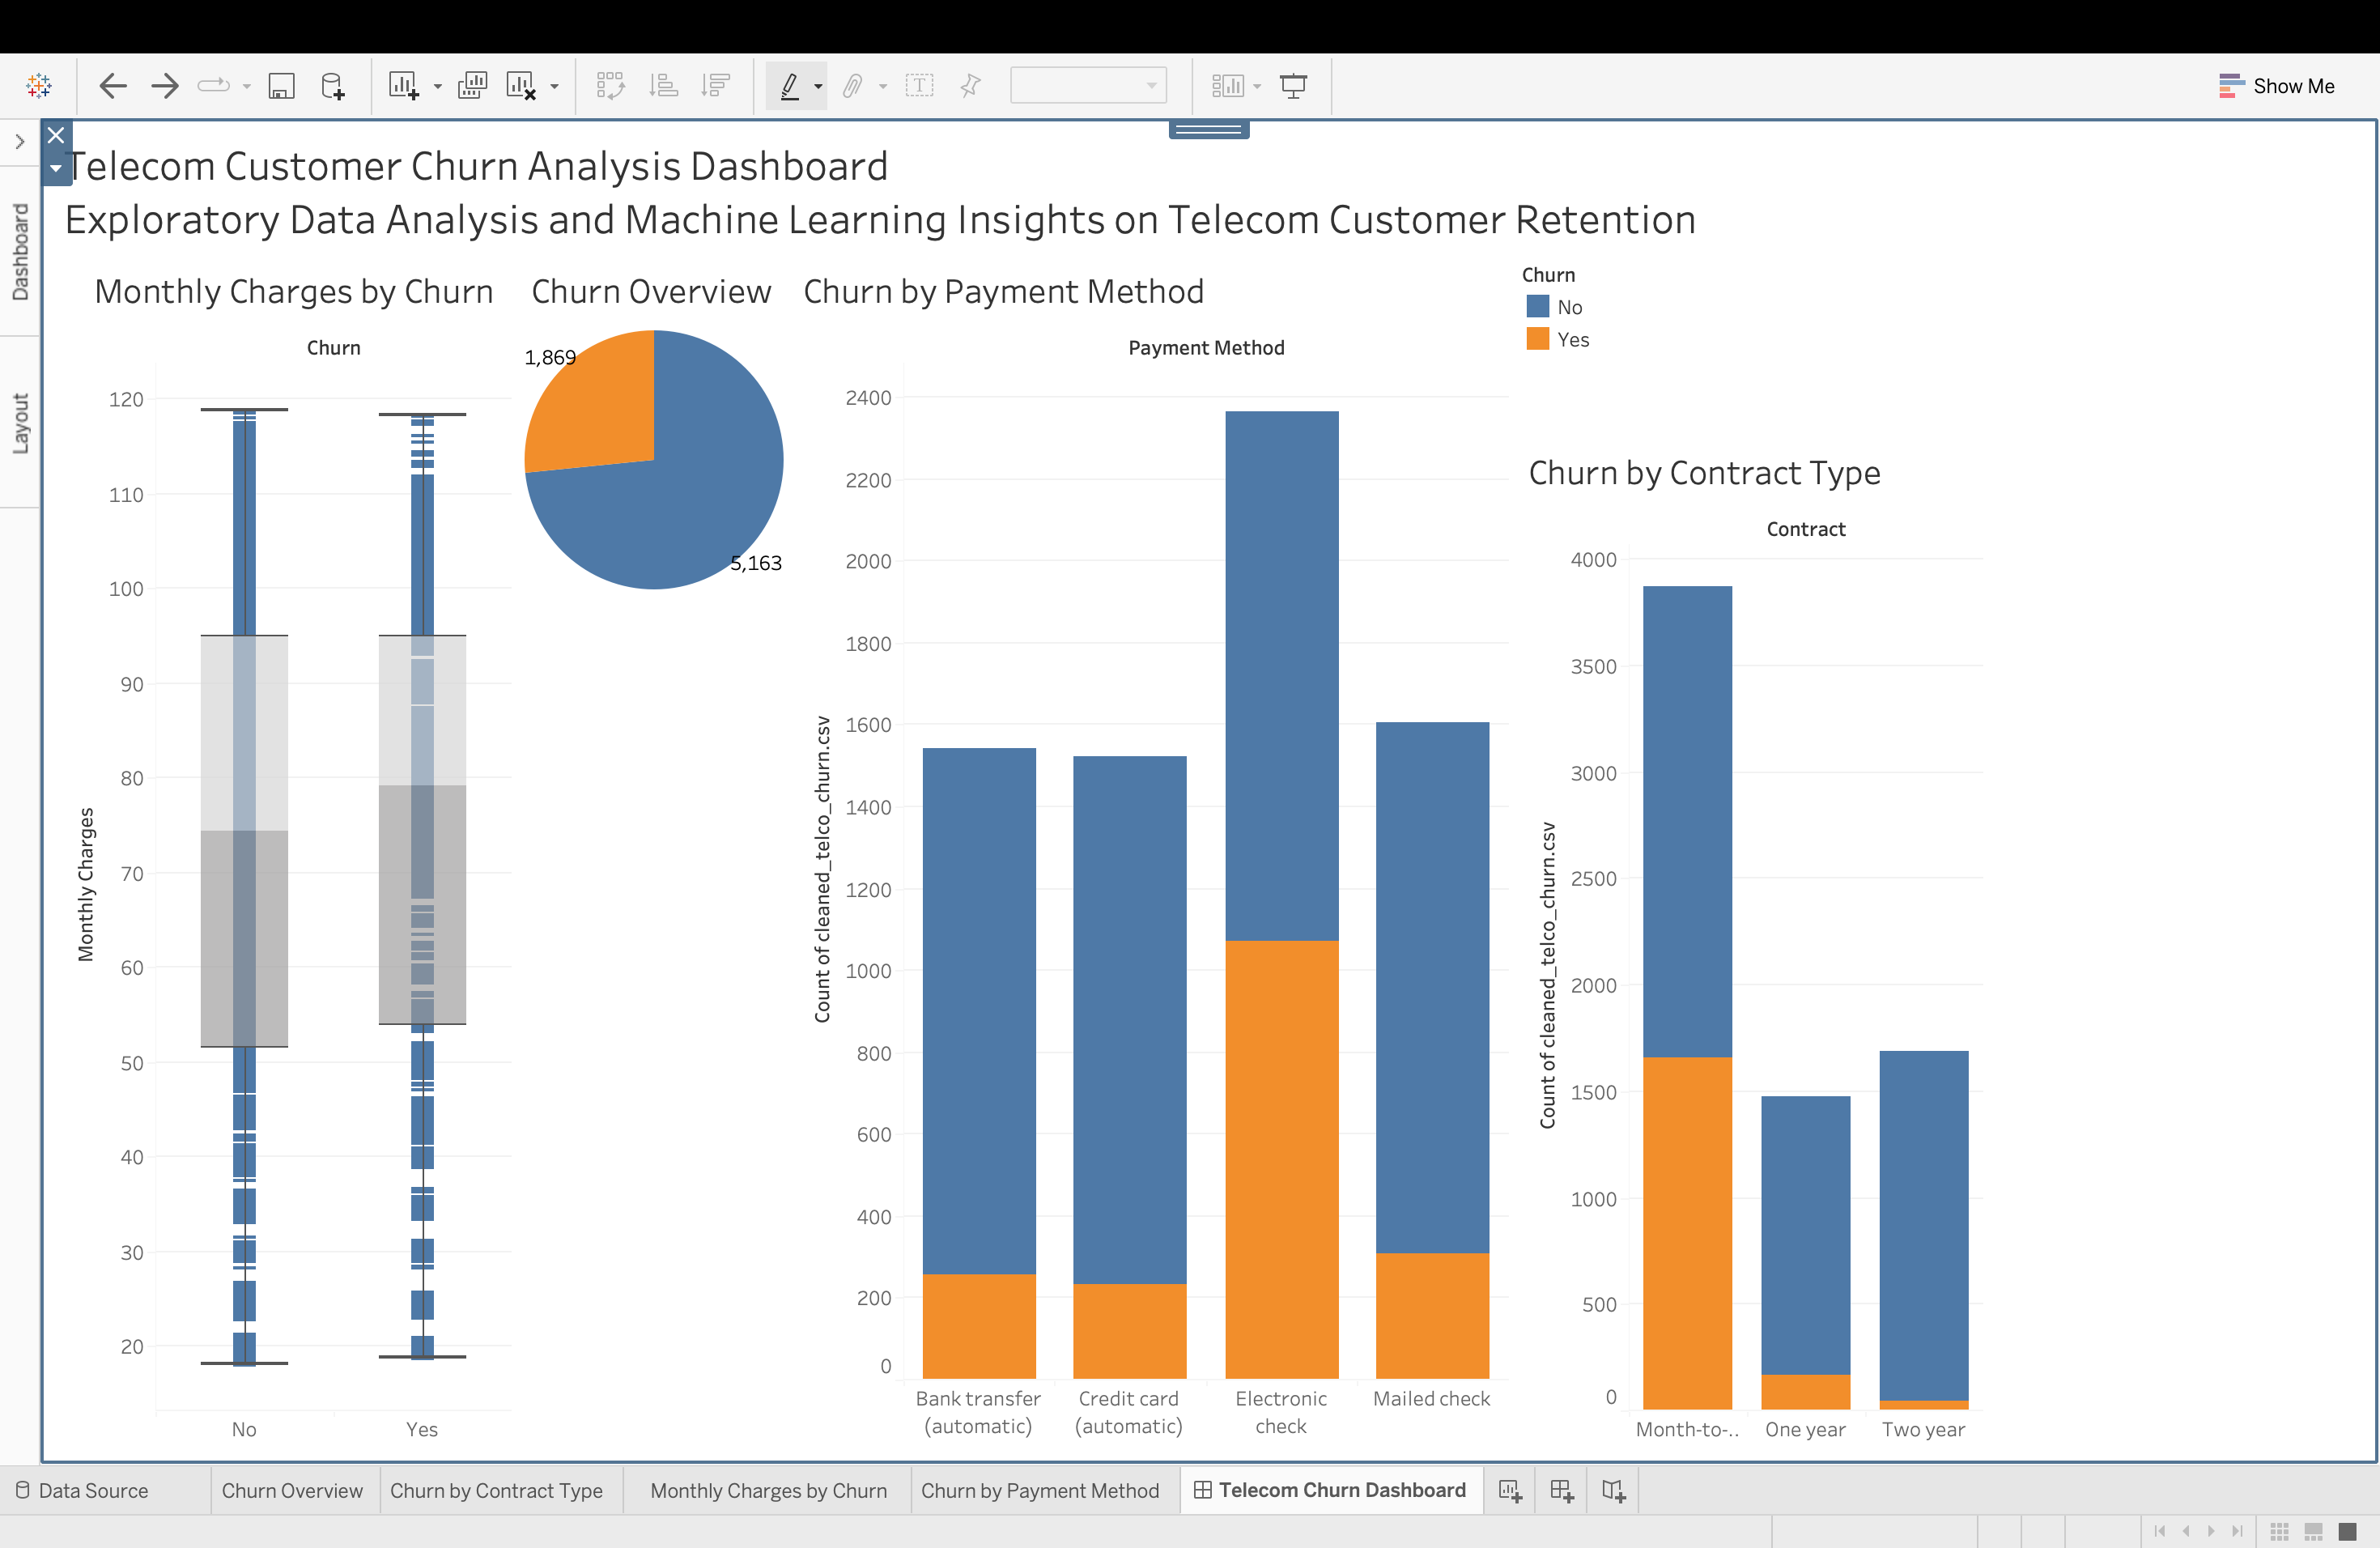

What the dashboard file says about the page in this screenshot:
{"tool":"tableau","page":{"name":"Telecom Churn Dashboard ","canvas":[1000,1000],"units":"permille","ordinal":0},"visuals":[{"type":"title","box":[5.5,9.6,988.9,91.5]},{"type":"worksheet","title":"    Monthly Charges by Churn","mark":"Automatic","rows":["MonthlyCharges"],"cols":["Churn"],"box":[5.5,101.1,198.6,889.3]},{"type":"worksheet","title":"Churn Overview","mark":"Pie","box":[204.2,101.1,116.5,889.3]},{"type":"worksheet","title":"Churn by Payment Method","mark":"Automatic","rows":["cleaned_telco_churn.csv_76FEEB372E324663AA1861D40D39E713"],"cols":["PaymentMethod"],"box":[320.6,101.1,310.3,889.3]},{"type":"legend","title":"Churn Overview","param":"[federated.1jedn10091qkkr1dcyidw0ro0jef].[none:Churn:nk]","box":[630.9,101.1,202.9,134.8]},{"type":"worksheet","title":"Churn by Contract Type","mark":"Automatic","rows":["cleaned_telco_churn.csv_76FEEB372E324663AA1861D40D39E713"],"cols":["Contract"],"box":[630.9,235.9,202.9,754.5]}]}

Visuals, with their boxes on the dashboard's canvas, which has no fixed pixel size, in thousandths of its width and height (x1, y1, x2, y2). These are canvas units, not pixel positions in the 2380x1548 screenshot, which may show the page scaled, cropped or inside an application window:
title: locate(6, 10, 994, 101)
"    Monthly Charges by Churn" worksheet: locate(6, 101, 204, 990)
"Churn Overview" worksheet (Pie marks): locate(204, 101, 321, 990)
"Churn by Payment Method" worksheet: locate(321, 101, 631, 990)
"Churn Overview" legend: locate(631, 101, 834, 236)
"Churn by Contract Type" worksheet: locate(631, 236, 834, 990)
